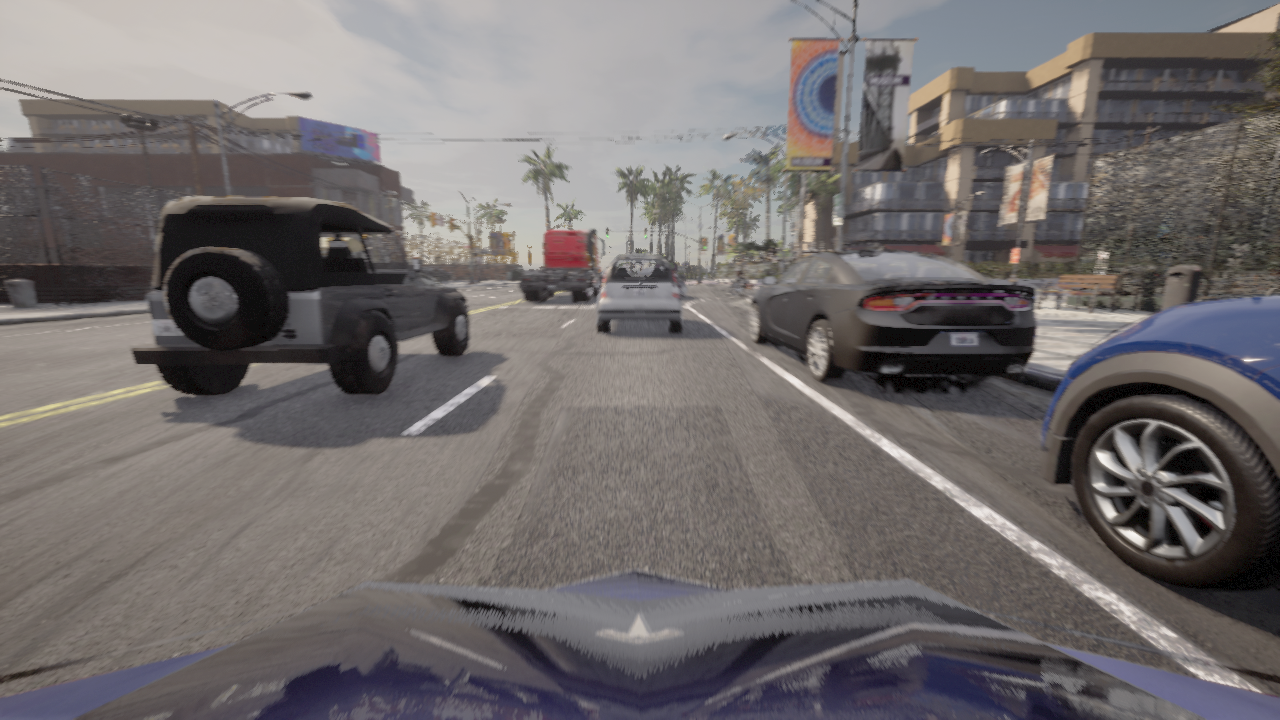cyclist: (0, 569, 1279, 719), (1040, 295, 1279, 589), (130, 196, 470, 394), (750, 245, 1036, 381), (597, 254, 682, 332), (519, 227, 605, 301), (421, 266, 452, 280), (673, 268, 686, 296), (730, 281, 751, 294)
